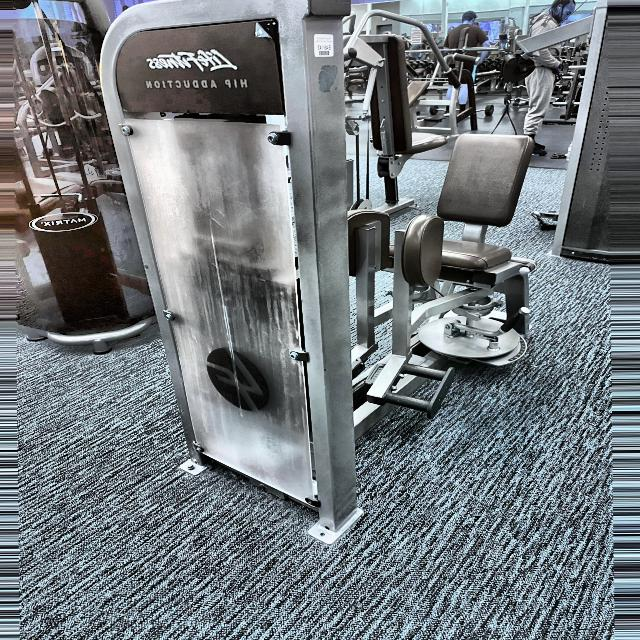hip_adduction_machine: (352, 75, 552, 438), (136, 70, 252, 106)
